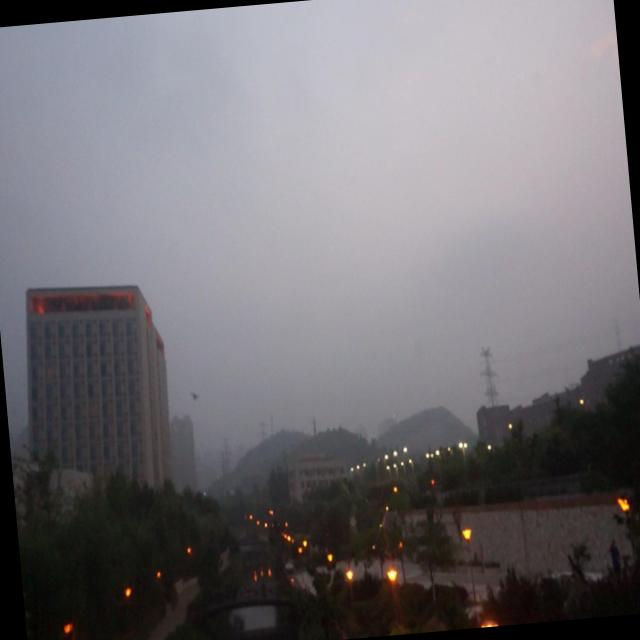drone: (190, 386, 199, 405)
